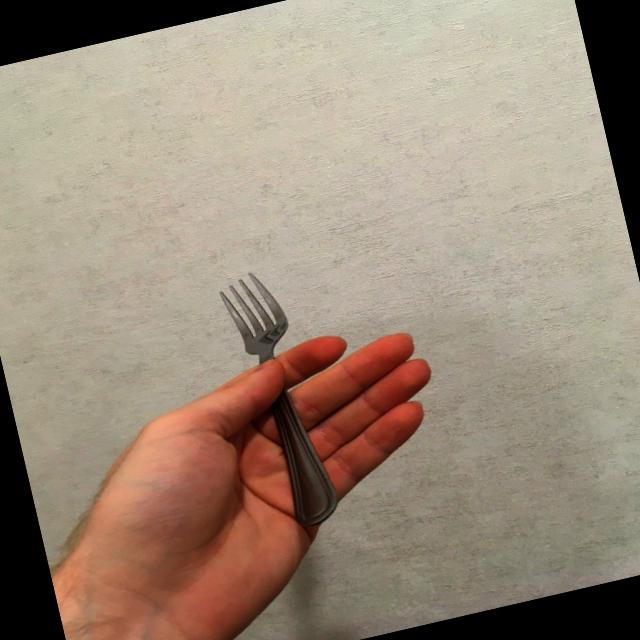fork: (211, 261, 341, 535)
